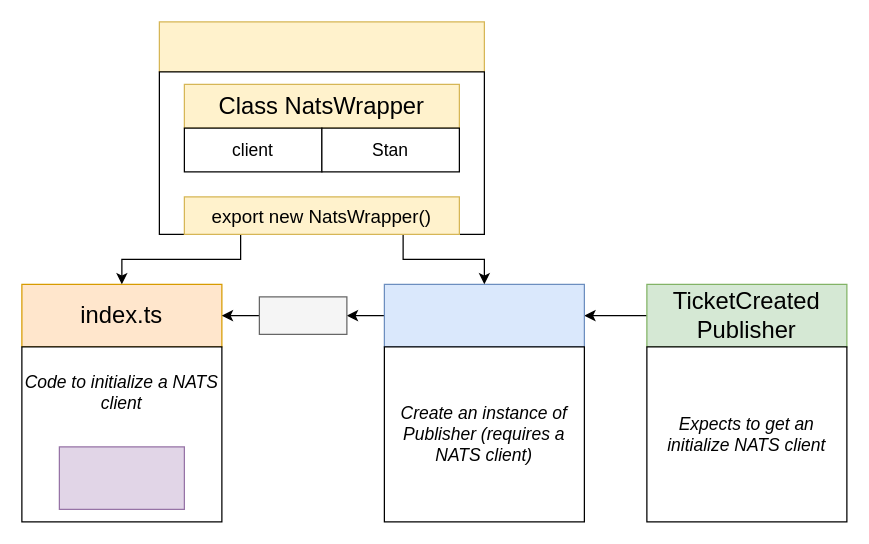
Image size: 869x544. Some labels were removed from this diagram. The shapes that lost their labels are listed below. From the top down, each one's centre as x and y in pixels, then its label:
At [321,46]: "nats-client.ts".
At [302,315]: "app.ts".
At [483,315]: "TicketCreated Route Handler".
At [121,477]: "NATS Client".
